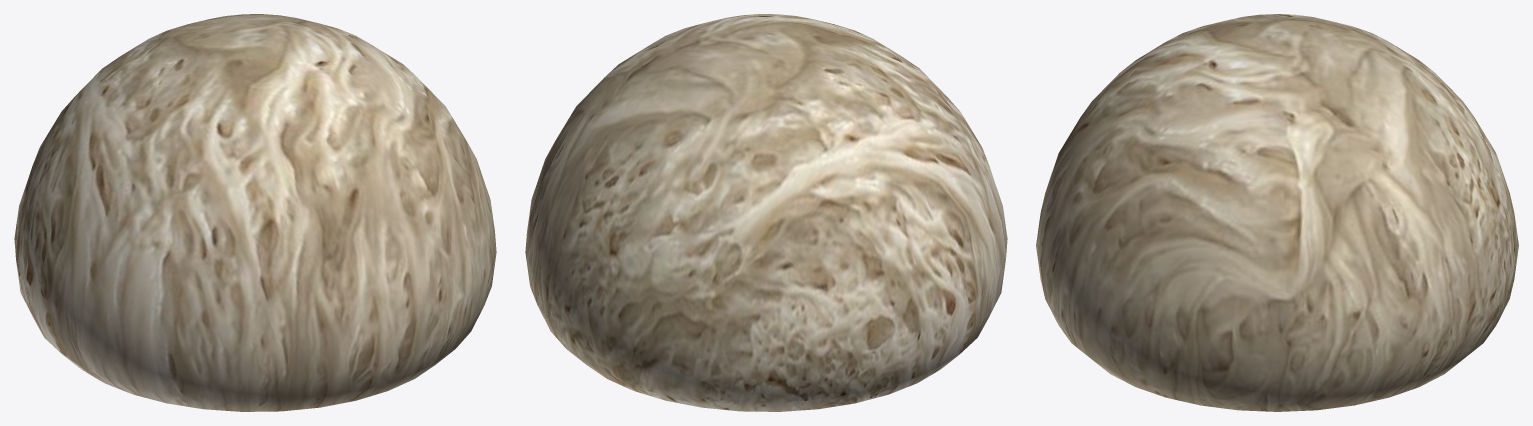
The model's file is Dough.fbx.
3 views of the same model, side by side, from view 1: azimuth 30°, elevation 25°; view 2: azimuth 150°, elevation 25°; view 3: azimuth 270°, elevation 25° (orthographic).
Visible parts, largest first — view 1: Dough; view 2: Dough; view 3: Dough.
Part boxes in pixels (x1,y1,x2,y2): Dough: (14, 14, 496, 411); Dough: (525, 14, 1007, 411); Dough: (1036, 14, 1518, 411).
Bounding box in the file's own units: 200 × 142 × 200.
Materials: 1 (1 with a texture image).
